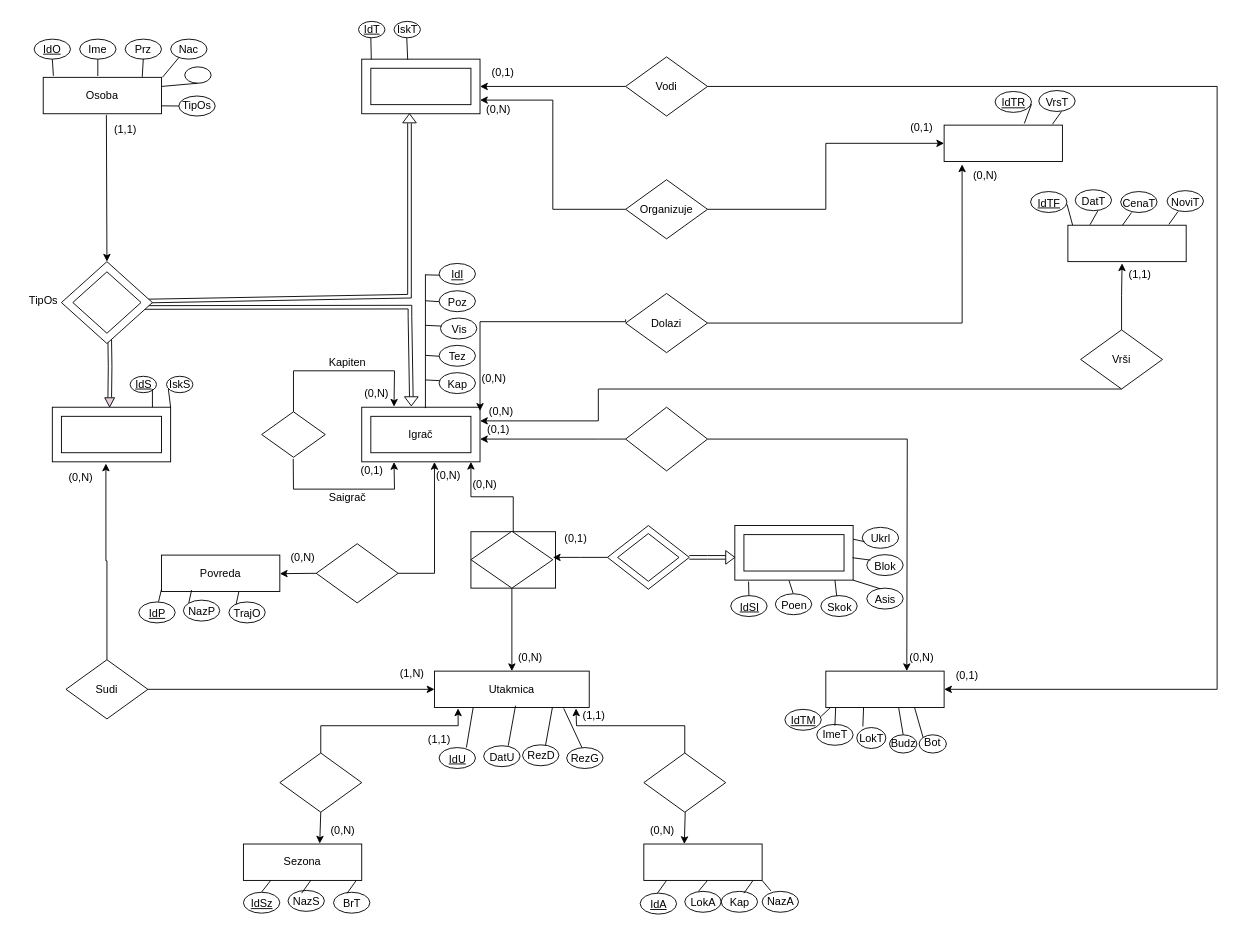
Some shapes in this 1240 by 934 pixel diagram are drawn without their labels. Each missing label, with the box of its shape:
Arena: (643, 843, 762, 880)
Igra: (470, 530, 553, 588)
Ima: (261, 411, 325, 457)
IS-A: (72, 271, 141, 333)
Obuhvata: (279, 752, 362, 812)
Održava: (643, 752, 726, 812)
Plt: (184, 66, 211, 83)
Poseduje: (617, 533, 679, 581)
Pripada: (625, 406, 708, 471)
Statistika igrača: (743, 534, 844, 571)
sudija: (61, 415, 162, 453)
Tim: (825, 670, 944, 708)
Transfer: (1067, 224, 1186, 262)
Trener: (370, 67, 471, 105)
Trening: (943, 124, 1062, 162)
Zadobija: (315, 543, 398, 603)
